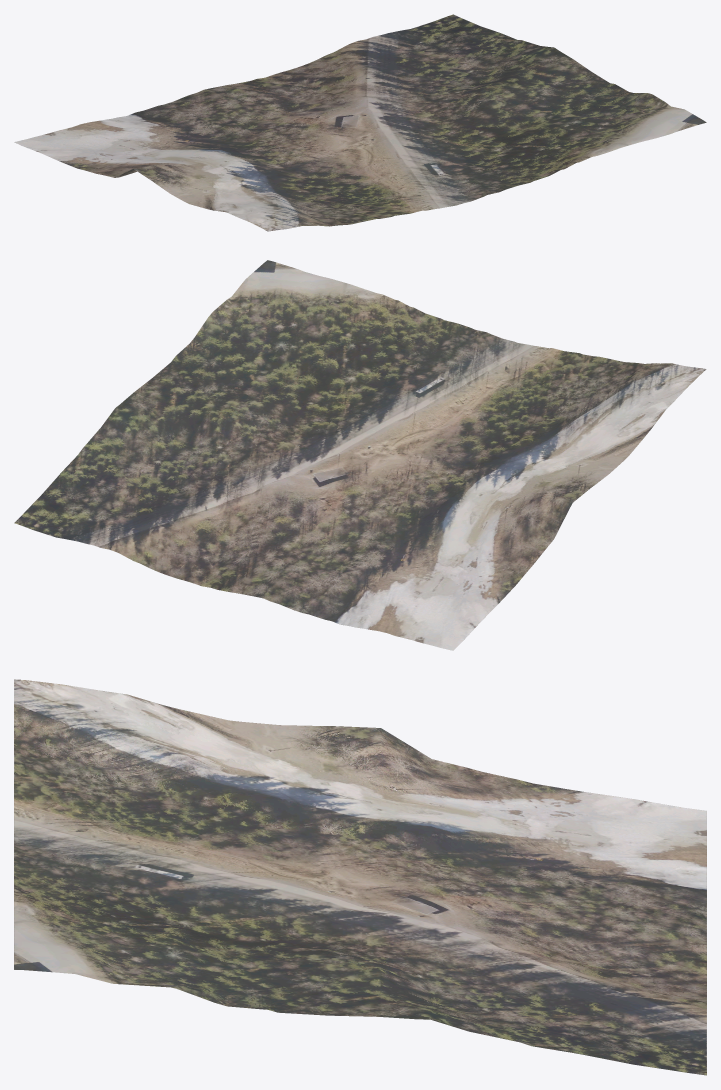
File: CM_Terrain_24492097_6816722.fbx
3 views of the same model, one above another, from view 1: azimuth 30°, elevation 25°; view 2: azimuth 150°, elevation 25°; view 3: azimuth 270°, elevation 25° (orthographic). The views are drawn at different scales.
Visible parts, largest first — view 1: CM_Terrain_24492097_6816722_LOD0; view 2: CM_Terrain_24492097_6816722_LOD0; view 3: CM_Terrain_24492097_6816722_LOD0.
Part boxes in pixels (left/top/right/bottom): CM_Terrain_24492097_6816722_LOD0: left=14, top=14, right=706, bottom=231; CM_Terrain_24492097_6816722_LOD0: left=14, top=260, right=706, bottom=650; CM_Terrain_24492097_6816722_LOD0: left=14, top=679, right=706, bottom=1075.
Size of what is drawn, in the model's own units: 205 by 44.27 by 205.
